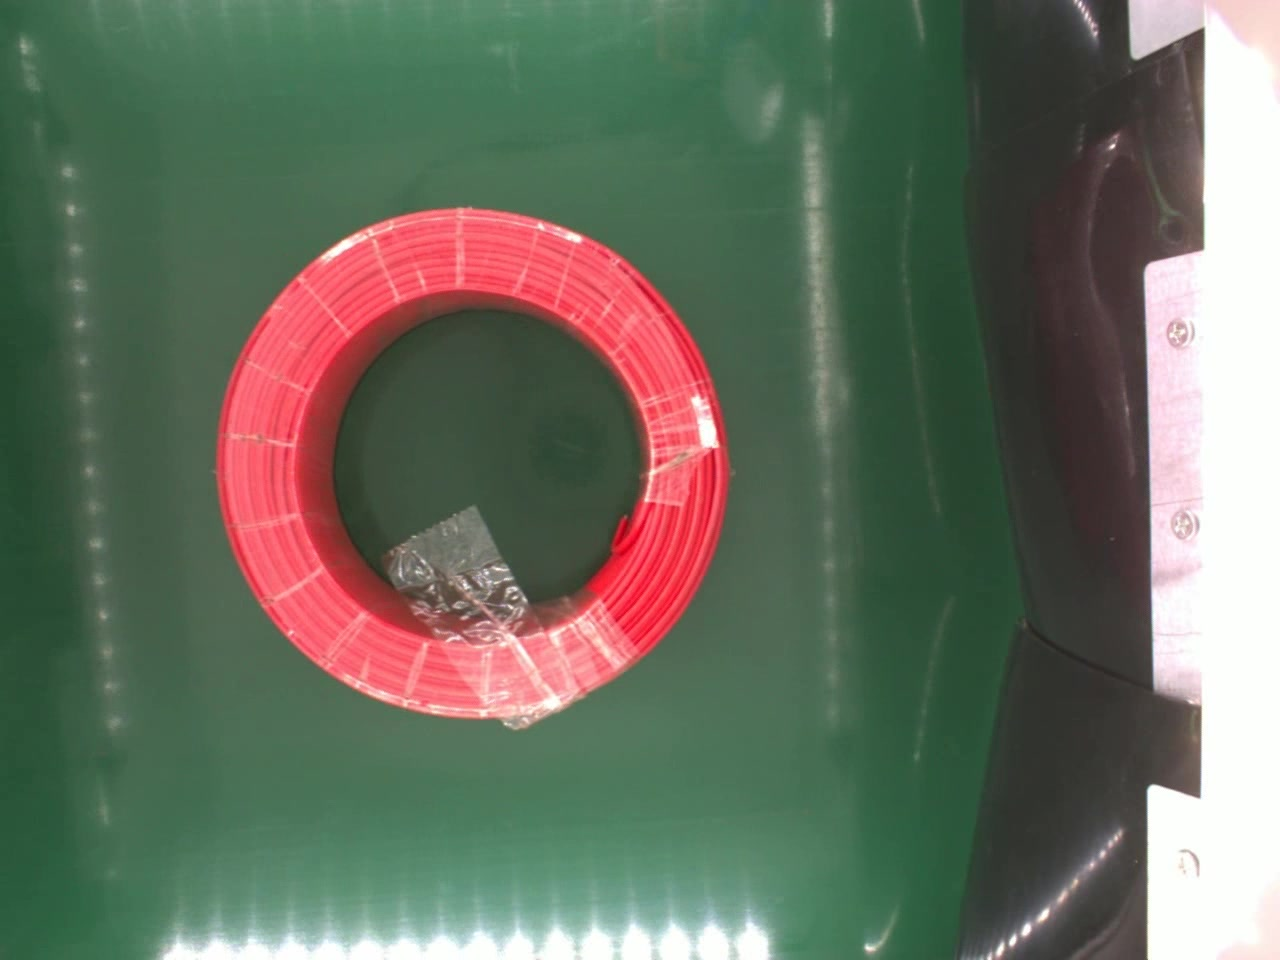red: (207, 207, 731, 719)
